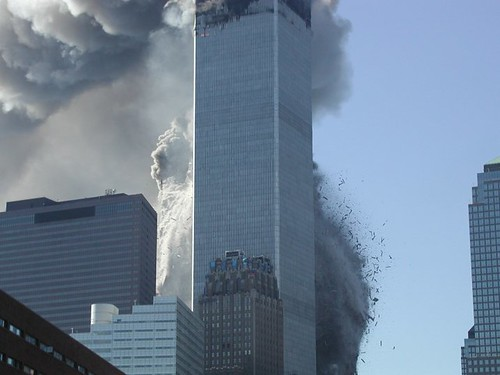building: (180, 1, 326, 375), (1, 184, 153, 322), (67, 297, 204, 375), (457, 160, 500, 375)
sky: (351, 1, 500, 350)
smoke: (1, 1, 189, 180), (310, 207, 385, 369)
